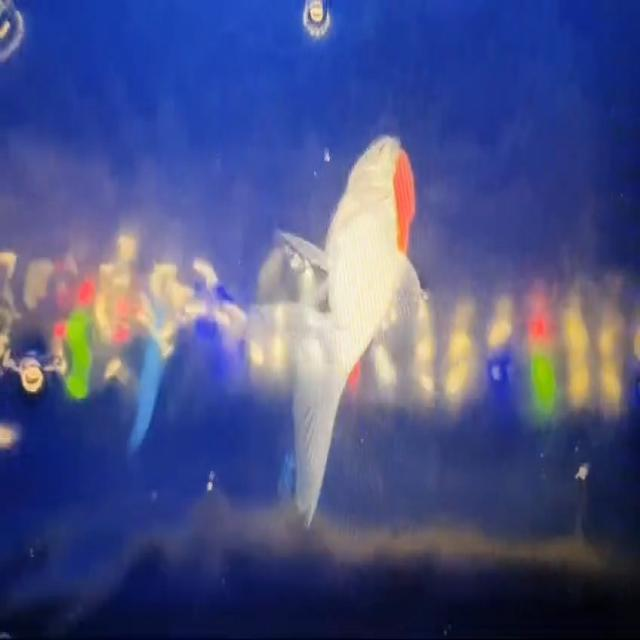fish: (269, 120, 426, 532)
